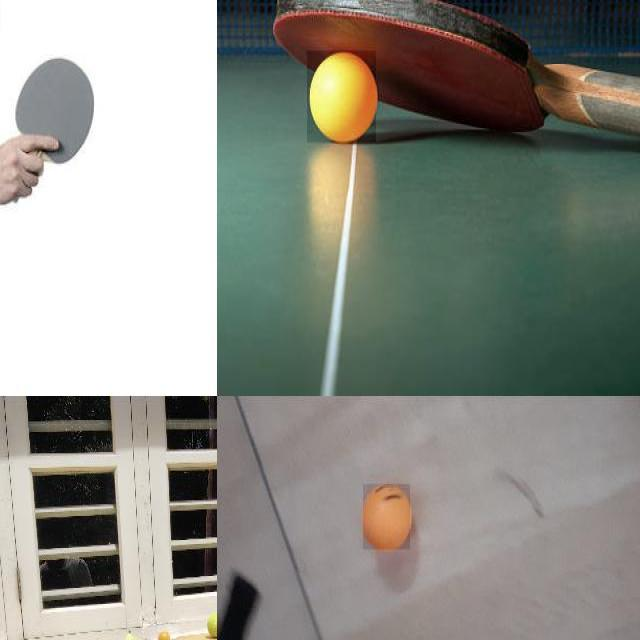ping-pong-ball: (307, 51, 377, 144), (363, 484, 411, 551), (157, 630, 170, 638)
